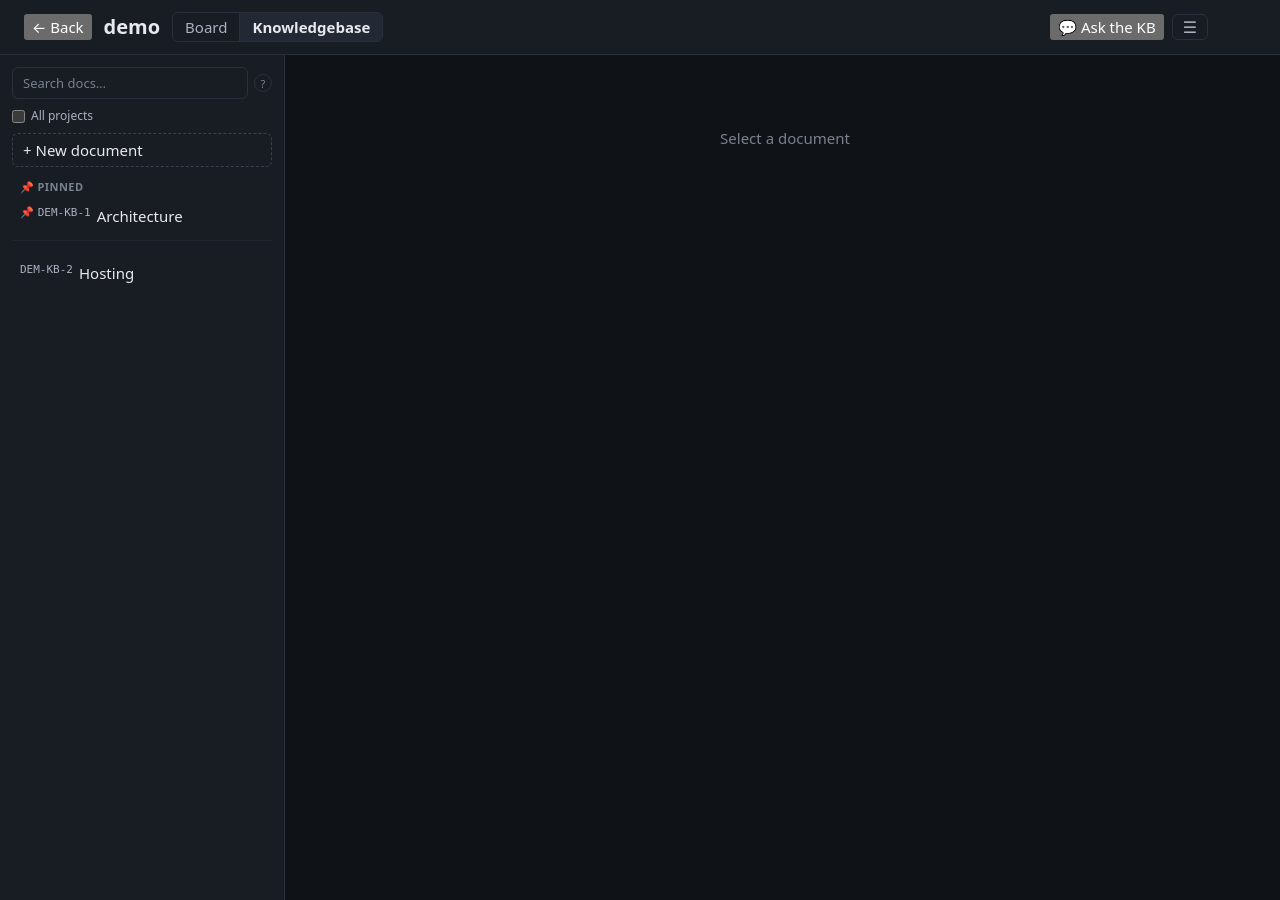
it: KnowledgeBase › keeps pinned docs visible while a search/filter is active
Expected: the text "Architecture" is shown, [97,206,183,226]
Type "vps" into the field with placeholder "Search docs…" at (130, 83), box [12,67,248,99]
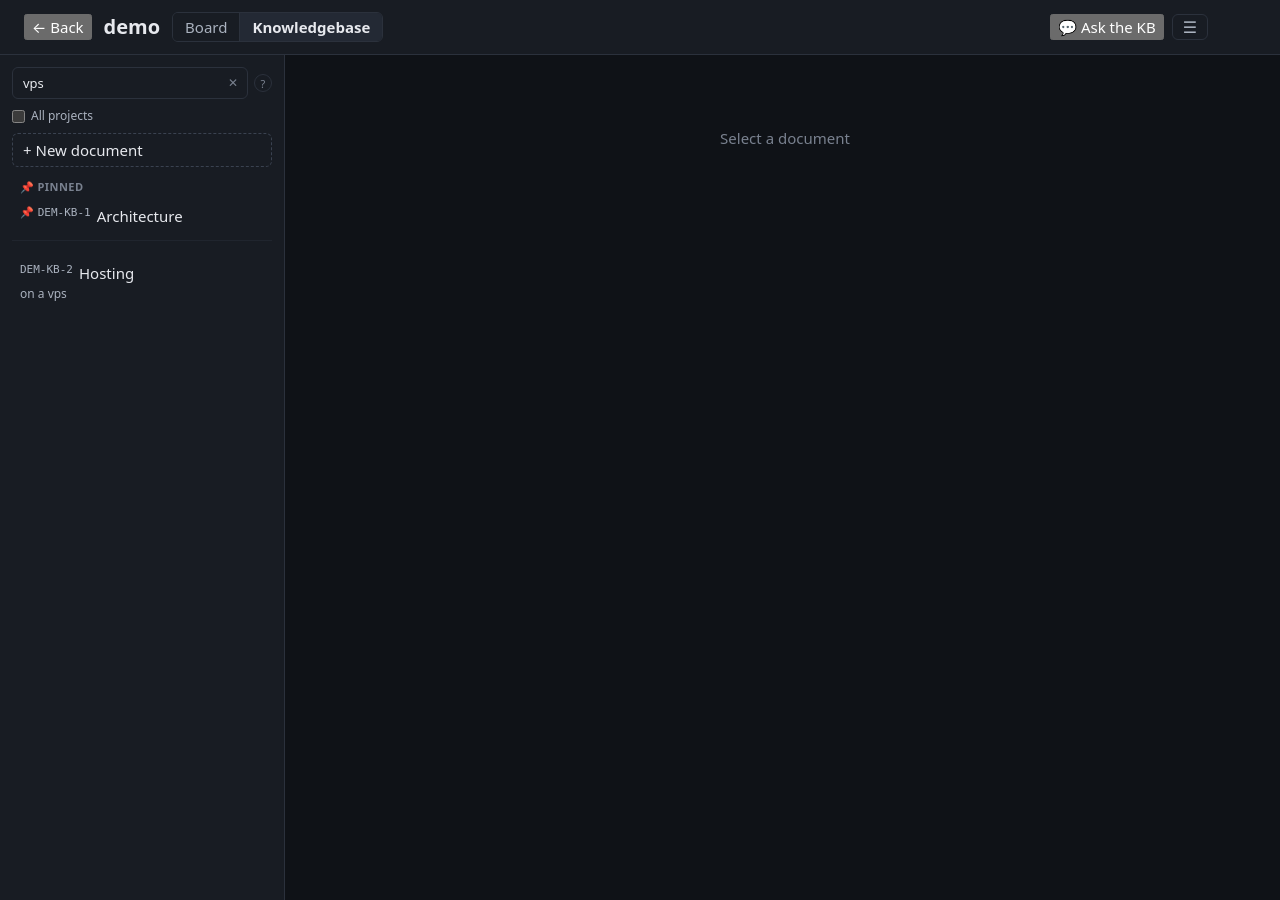
Expected: the text "📌 Pinned" is shown, [20,179,84,194]
Expected: the text "on a vps" is shown, [20,285,67,302]
